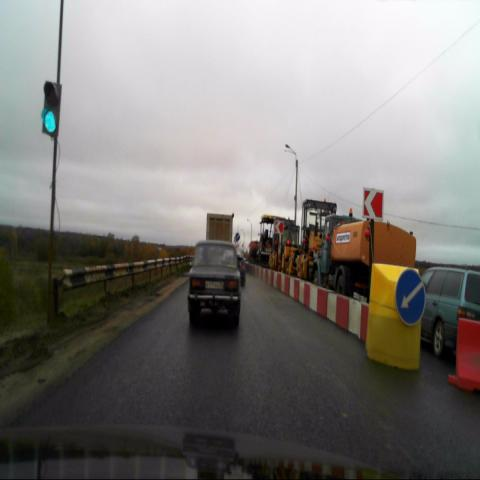4_2_2: (395, 268, 425, 325)
